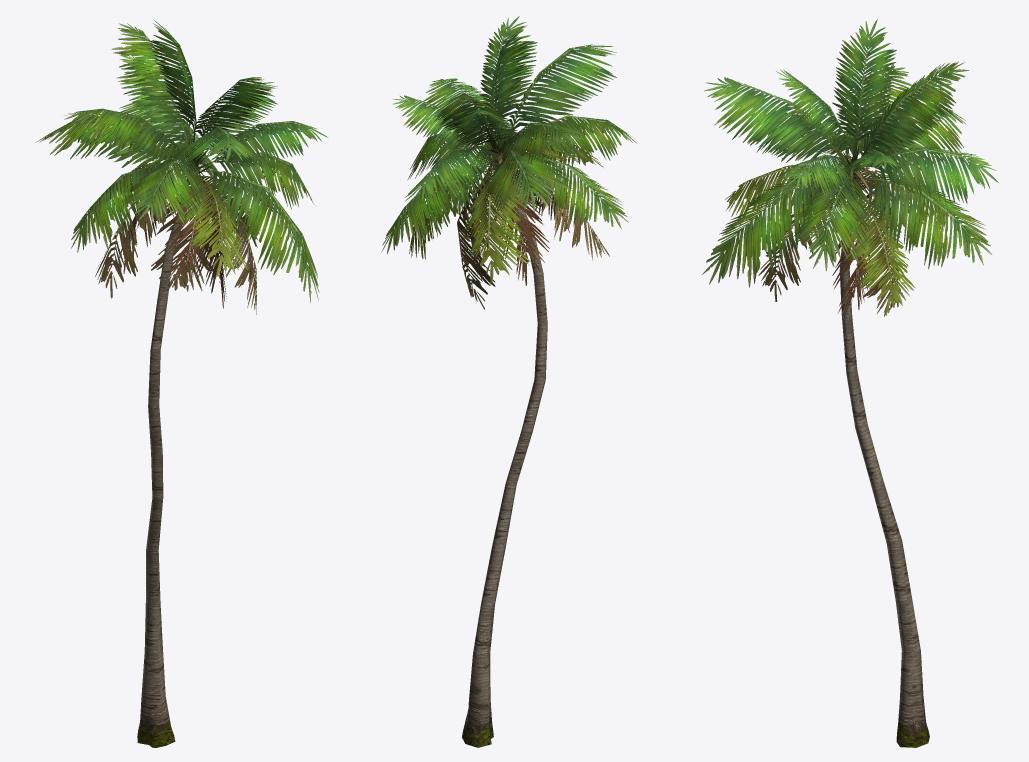
The model's file is SV_PLT_senlin_tree_7.FBX.
3 views of the same model, side by side, from view 1: azimuth 30°, elevation 25°; view 2: azimuth 150°, elevation 25°; view 3: azimuth 270°, elevation 25° (orthographic). The views are drawn at different scales.
Parts seen in each view (by area): view 1: SV_PLT_senlin_tree_7_leaf, SV_PLT_senglin_tree_7_trunk; view 2: SV_PLT_senlin_tree_7_leaf, SV_PLT_senglin_tree_7_trunk; view 3: SV_PLT_senlin_tree_7_leaf, SV_PLT_senglin_tree_7_trunk.
Part boxes in pixels (x1=…): SV_PLT_senlin_tree_7_leaf: x1=35, y1=20, x2=328, y2=314; SV_PLT_senglin_tree_7_trunk: x1=137, y1=190, x2=194, y2=747; SV_PLT_senlin_tree_7_leaf: x1=381, y1=16, x2=636, y2=309; SV_PLT_senglin_tree_7_trunk: x1=462, y1=174, x2=547, y2=747; SV_PLT_senlin_tree_7_leaf: x1=702, y1=19, x2=998, y2=320; SV_PLT_senglin_tree_7_trunk: x1=839, y1=186, x2=929, y2=747.
Bounding box in the file's own units: 4.72 × 12.92 × 5.52.
Materials: 2 (2 with a texture image).
